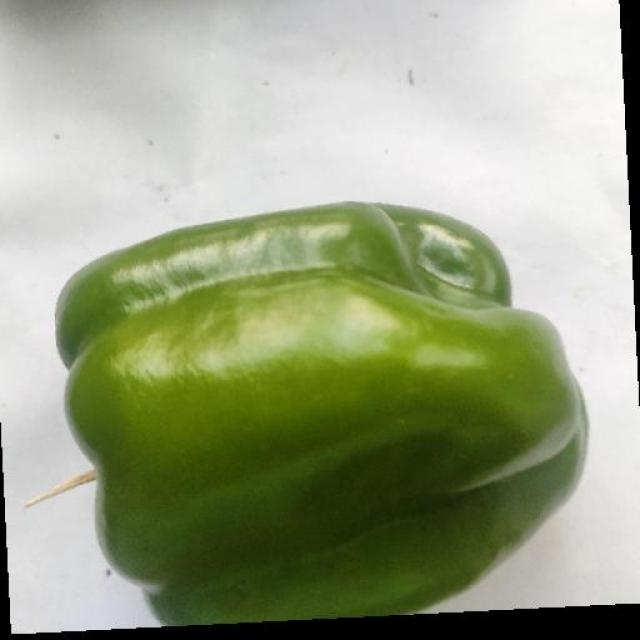Fresh_Capsicum: (50, 144, 605, 616)
